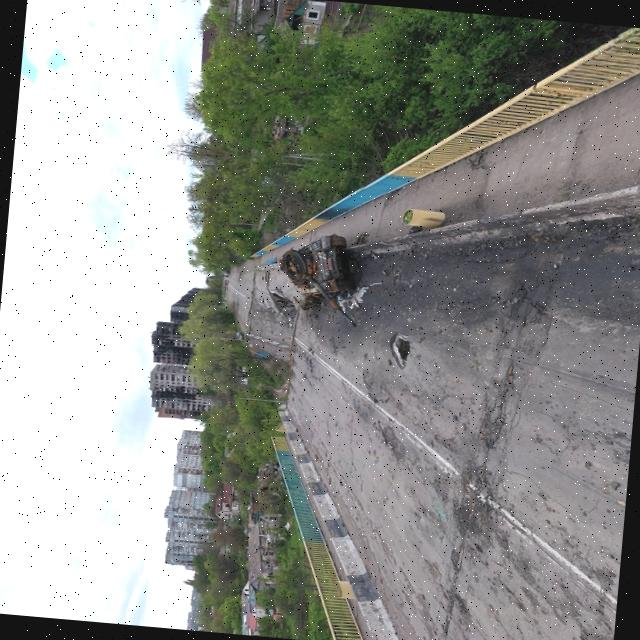Destroyed: (272, 228, 376, 330)
